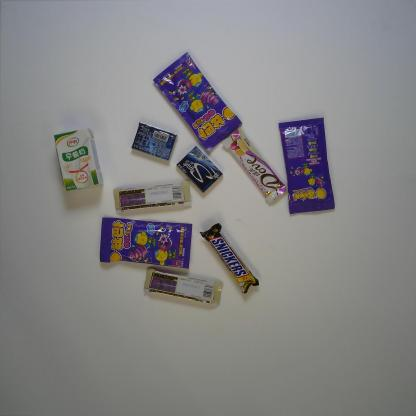Candy: (152, 50, 242, 152), (278, 116, 335, 216), (99, 216, 193, 269)
Chocolate: (222, 126, 287, 204), (200, 222, 259, 294), (144, 267, 223, 305), (112, 180, 192, 211)
Gum: (176, 146, 224, 193), (131, 121, 178, 161)
Milk: (54, 128, 104, 192)
